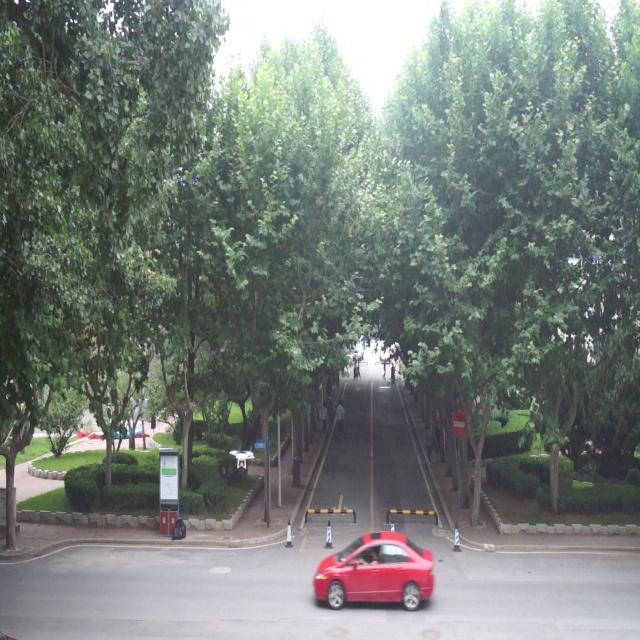UAV: (230, 450, 254, 470)
